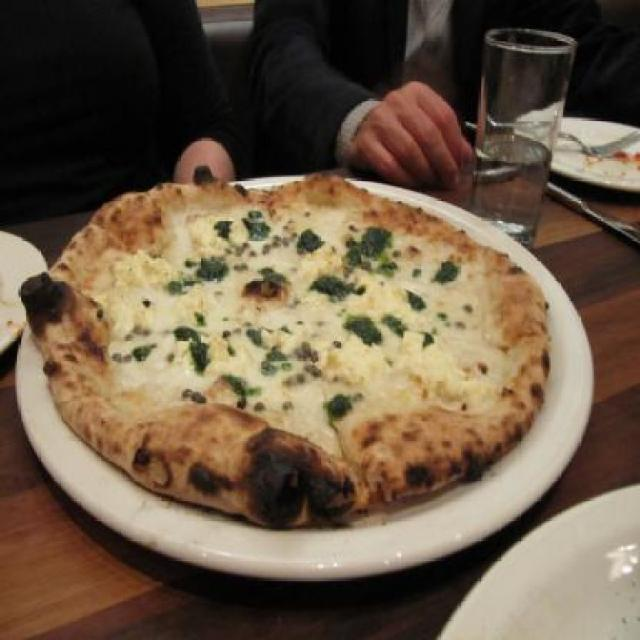Pizza: (11, 175, 548, 563)
